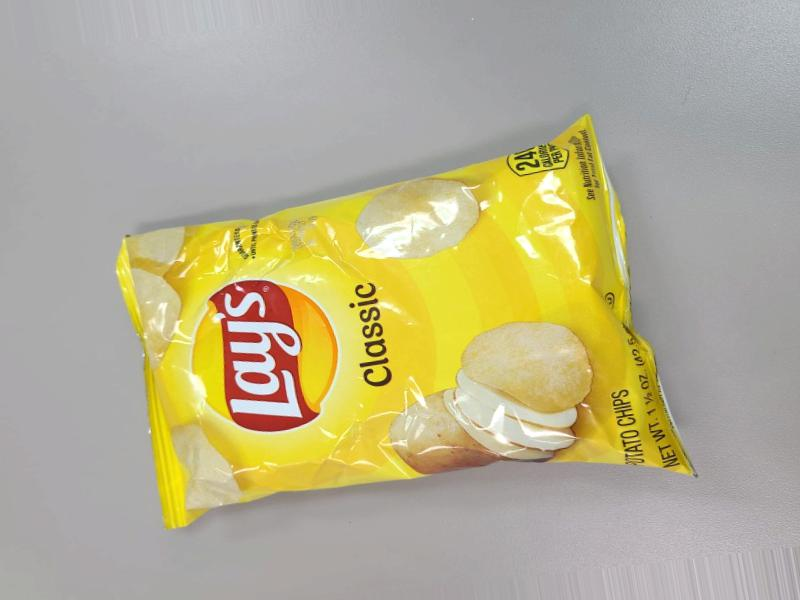lays: (89, 161, 721, 528)
